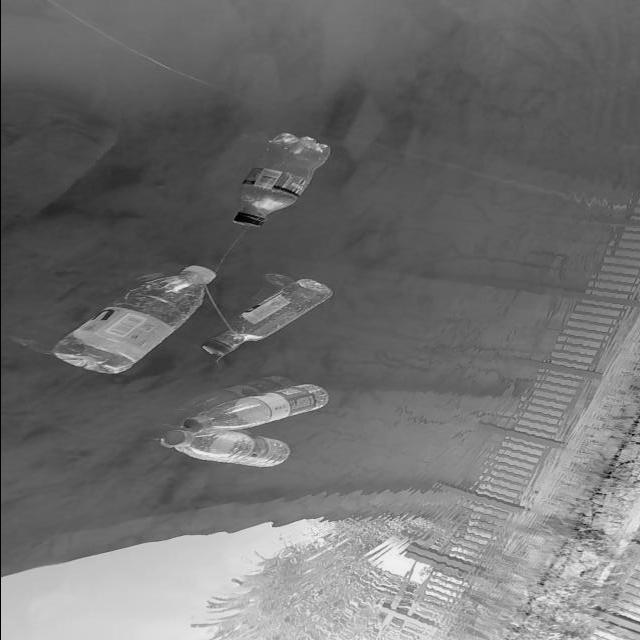bottle: (46, 258, 221, 382), (195, 264, 352, 376), (225, 128, 338, 234), (184, 383, 332, 434), (150, 425, 315, 470)
